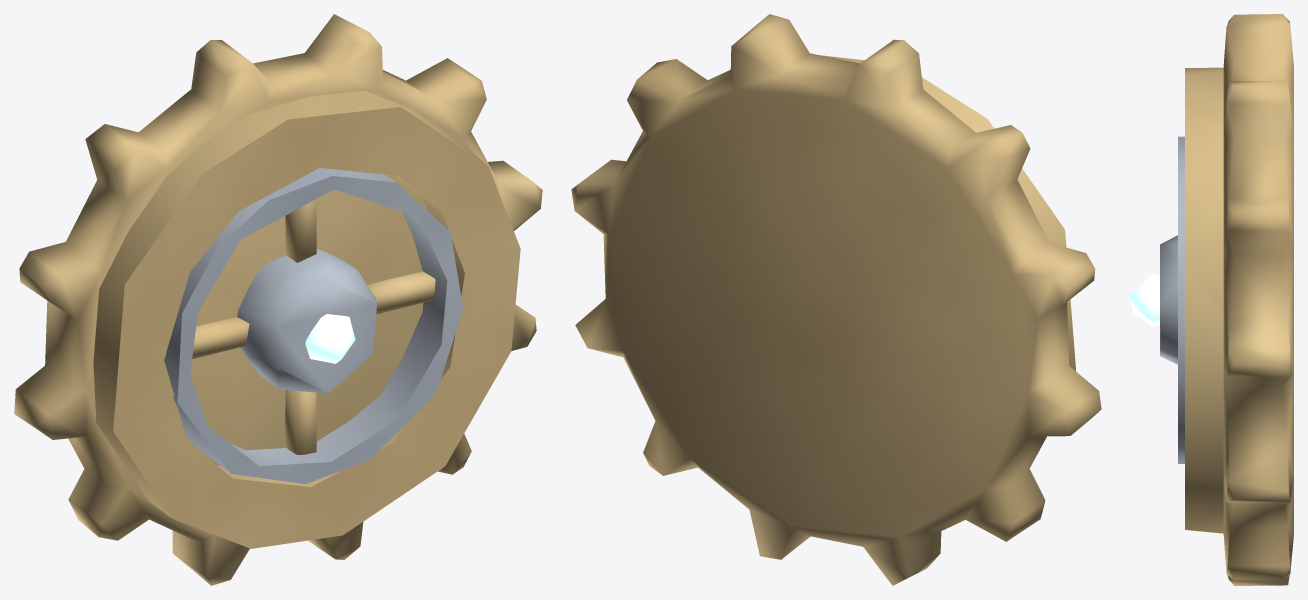
The model's file is gear_clockwork_small_lod1.gltf.
3 renders of one model, left to right at view 1: azimuth 30°, elevation 25°; view 2: azimuth 150°, elevation 25°; view 3: azimuth 270°, elevation 25°, orthographic.
Parts seen in each view (by area): view 1: gear_clockwork_small_LOD1; view 2: gear_clockwork_small_LOD1; view 3: gear_clockwork_small_LOD1.
Part boxes in pixels (x1,y1,x2,y2): gear_clockwork_small_LOD1: (14,14,542,585); gear_clockwork_small_LOD1: (571,14,1101,585); gear_clockwork_small_LOD1: (1130,14,1293,585).
Bounding box in the file's own units: 0.5699 × 0.5699 × 0.163.
Materials: 1 (1 with a texture image).
